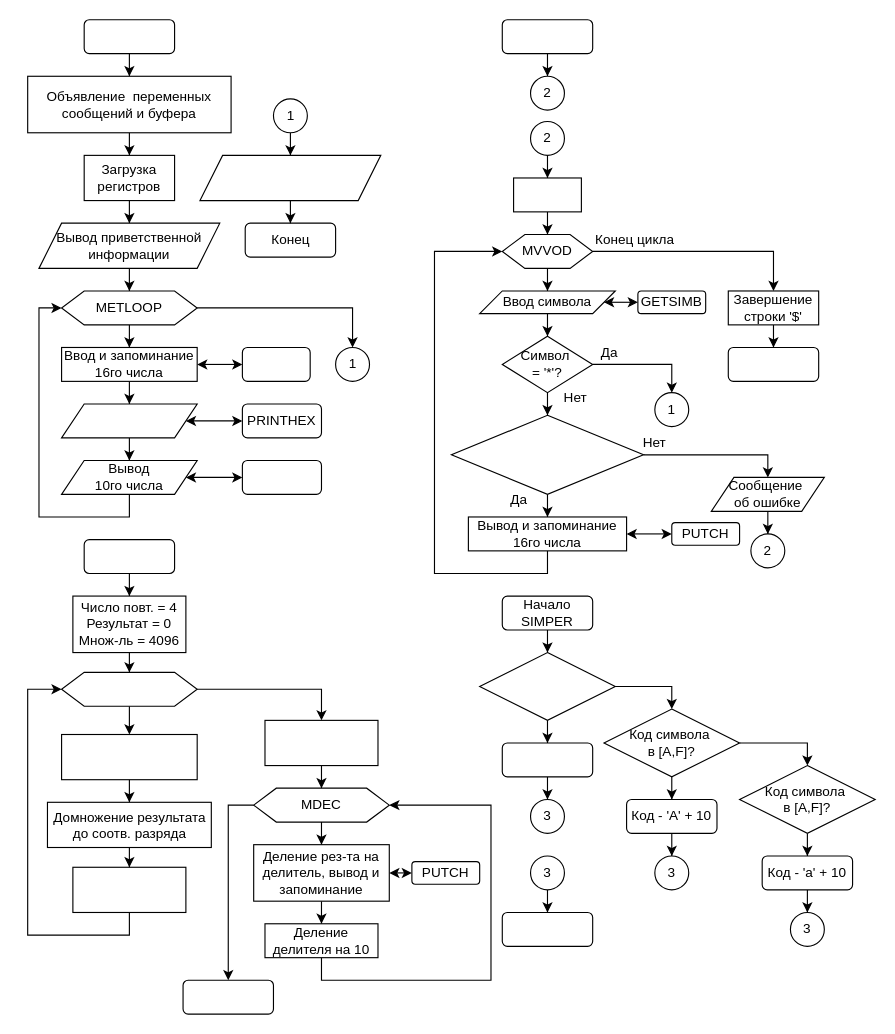
This 895x1034 diagram has some shape labels left out. Each missing label, with the box of its shape:
CPER: (60, 671, 197, 706)
DECPRINT: (241, 459, 321, 494)
HEXADR: (241, 346, 310, 381)
Вывод 16го числа: (60, 403, 197, 438)
Вывод конечной информации: (199, 154, 381, 201)
Код - 30h: (501, 742, 593, 777)
Код символа в [30,39]h?: (479, 651, 615, 720)
Конец DECPRINT: (182, 979, 273, 1014)
Конец HEXADR: (727, 346, 819, 381)
Конец SIMPER: (501, 911, 593, 946)
Начало: (83, 19, 175, 54)
Начало DECPRINT: (83, 538, 175, 573)
Начало HEXADR: (501, 19, 593, 54)
Прибавление числа к результату: (60, 733, 197, 780)
Сдвиг множителя на разряд: (72, 866, 186, 912)
Символ принадлежит 16-й СС?: (450, 414, 644, 494)
Число повт. = 5 Дел-ль = 10000: (264, 719, 378, 766)
Число повт. =4: (512, 177, 581, 212)
